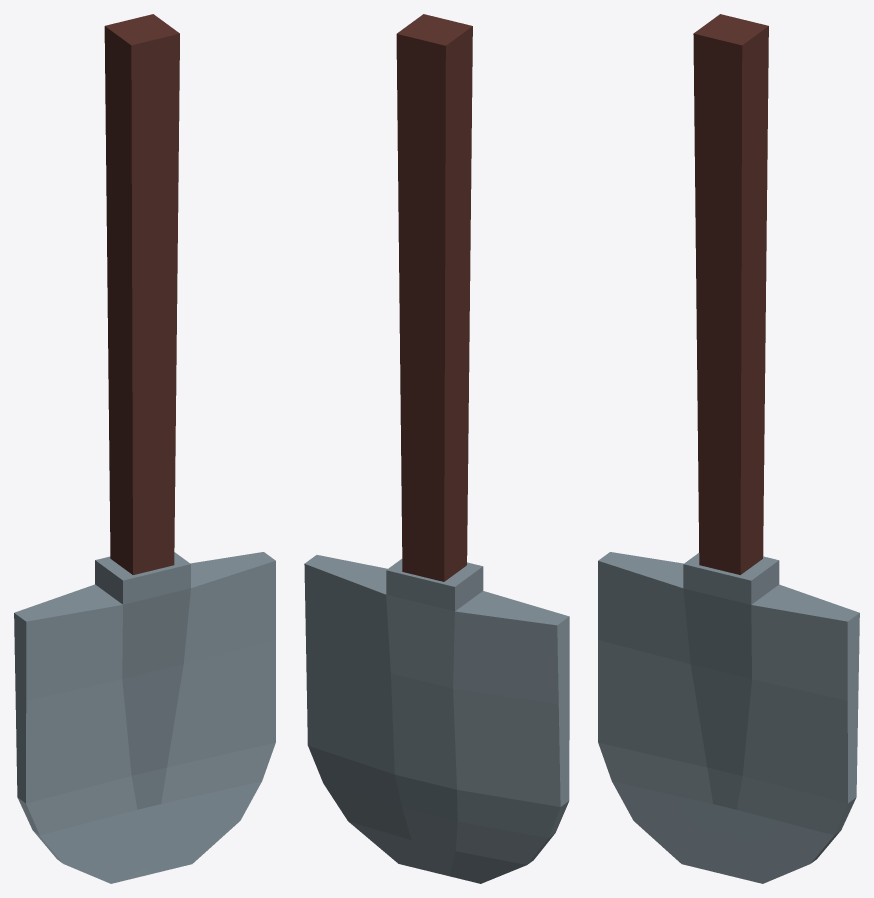
The model's file is shovel lowpoly.fbx.
The picture shows the model from 3 angles, left to right: view 1: azimuth 30°, elevation 25°; view 2: azimuth 150°, elevation 25°; view 3: azimuth 330°, elevation 25°; orthographic projection.
Visible parts, largest first — view 1: pickaxe.003; view 2: pickaxe.003; view 3: pickaxe.003.
Part boxes in pixels (x1,y1,x2,y2): pickaxe.003: (14,14,275,883); pickaxe.003: (304,14,569,883); pickaxe.003: (598,14,859,883).
Bounding box in the file's own units: 31.27 × 100 × 6.06.
